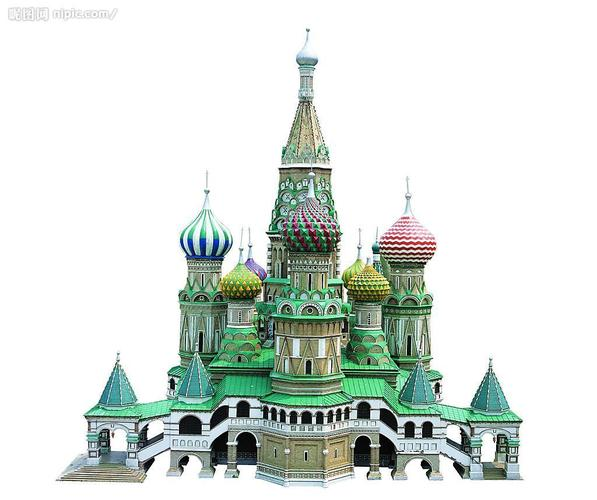buildings: (70, 41, 534, 484)
